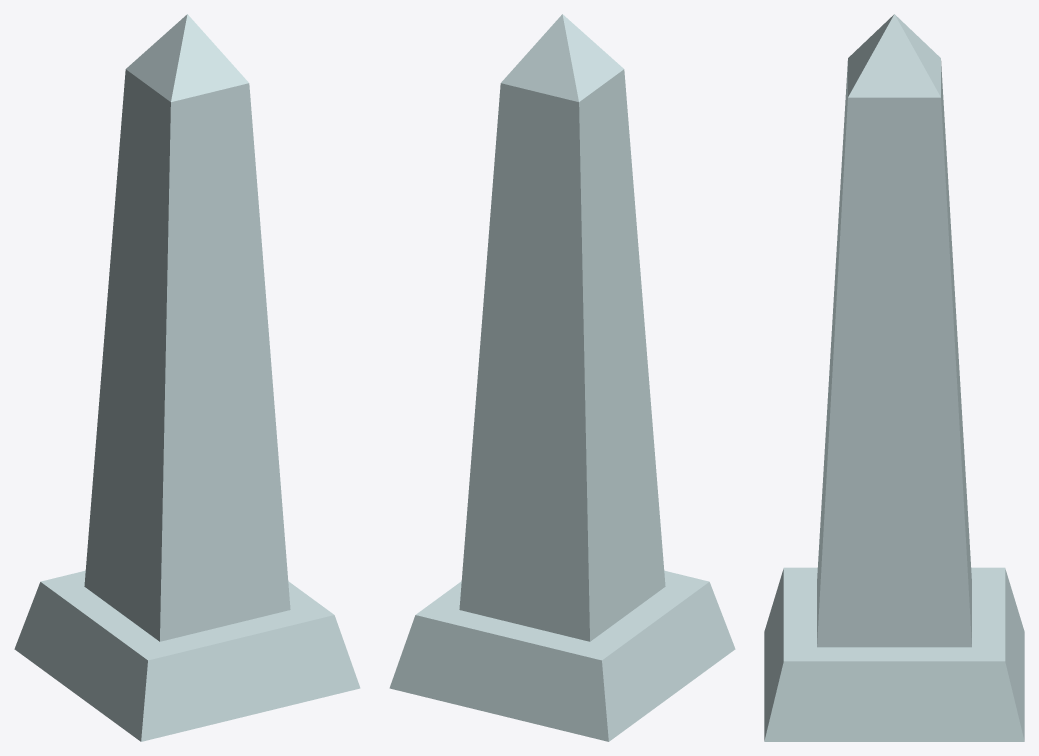
The model's file is stone_obelisk.glb.
The picture shows the model from 3 angles, left to right: view 1: azimuth 30°, elevation 25°; view 2: azimuth 150°, elevation 25°; view 3: azimuth 270°, elevation 25°; orthographic projection. The views are drawn at different scales.
Parts seen in each view (by area): view 1: stone_obelisk; view 2: stone_obelisk; view 3: stone_obelisk.
Boxes of the visible parts, bbox=[...] form: stone_obelisk: bbox=[14, 14, 360, 741]; stone_obelisk: bbox=[389, 14, 735, 741]; stone_obelisk: bbox=[764, 14, 1024, 741].
Size of the model in its own units: 0.2241 by 0.639 by 0.2241.
